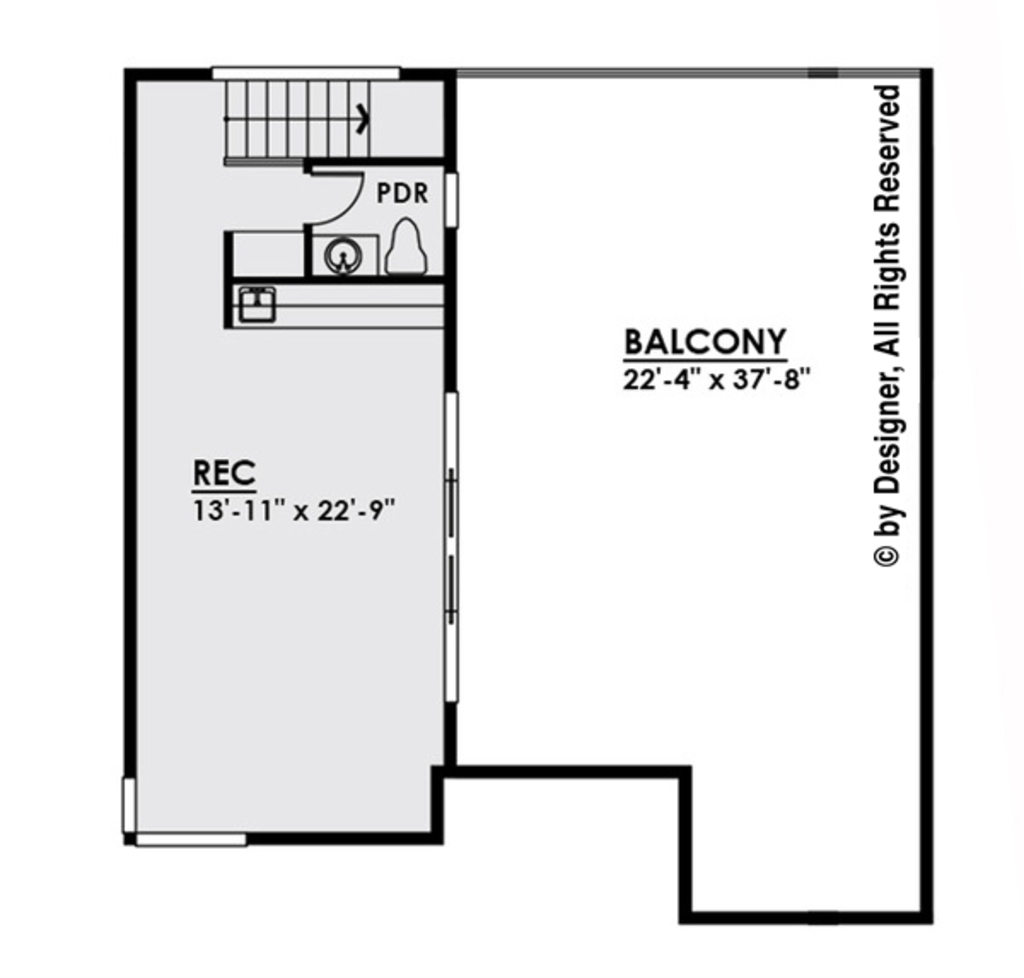door: (308, 167, 370, 234)
large_sink: (382, 217, 431, 278)
small_sink: (306, 229, 380, 280)
stairs: (216, 74, 439, 166)
windows: (440, 386, 465, 713), (131, 829, 254, 854)
